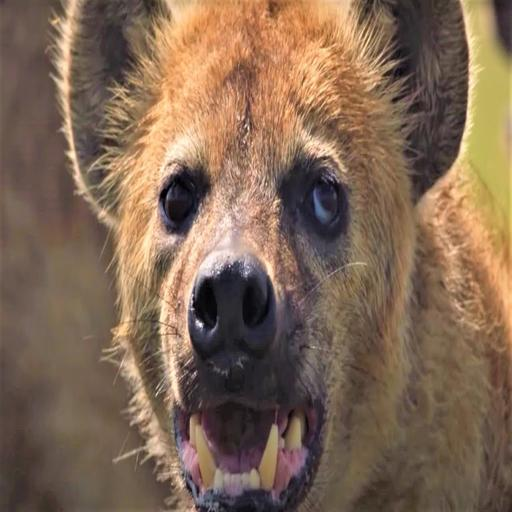Hyena: (55, 0, 512, 512)
